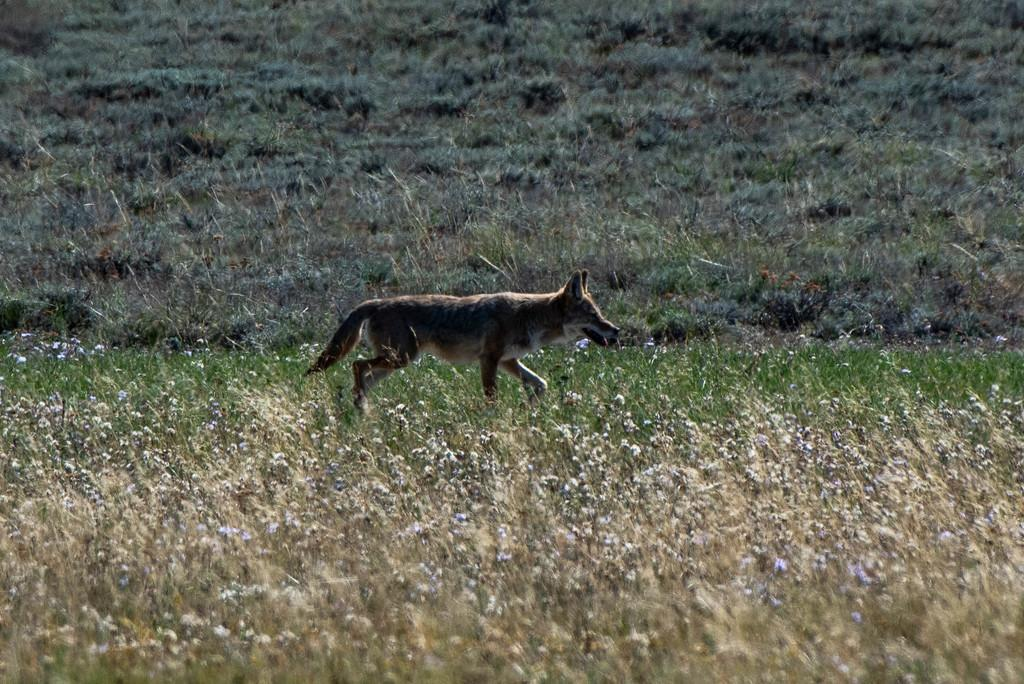Coyote: (302, 263, 626, 423)
